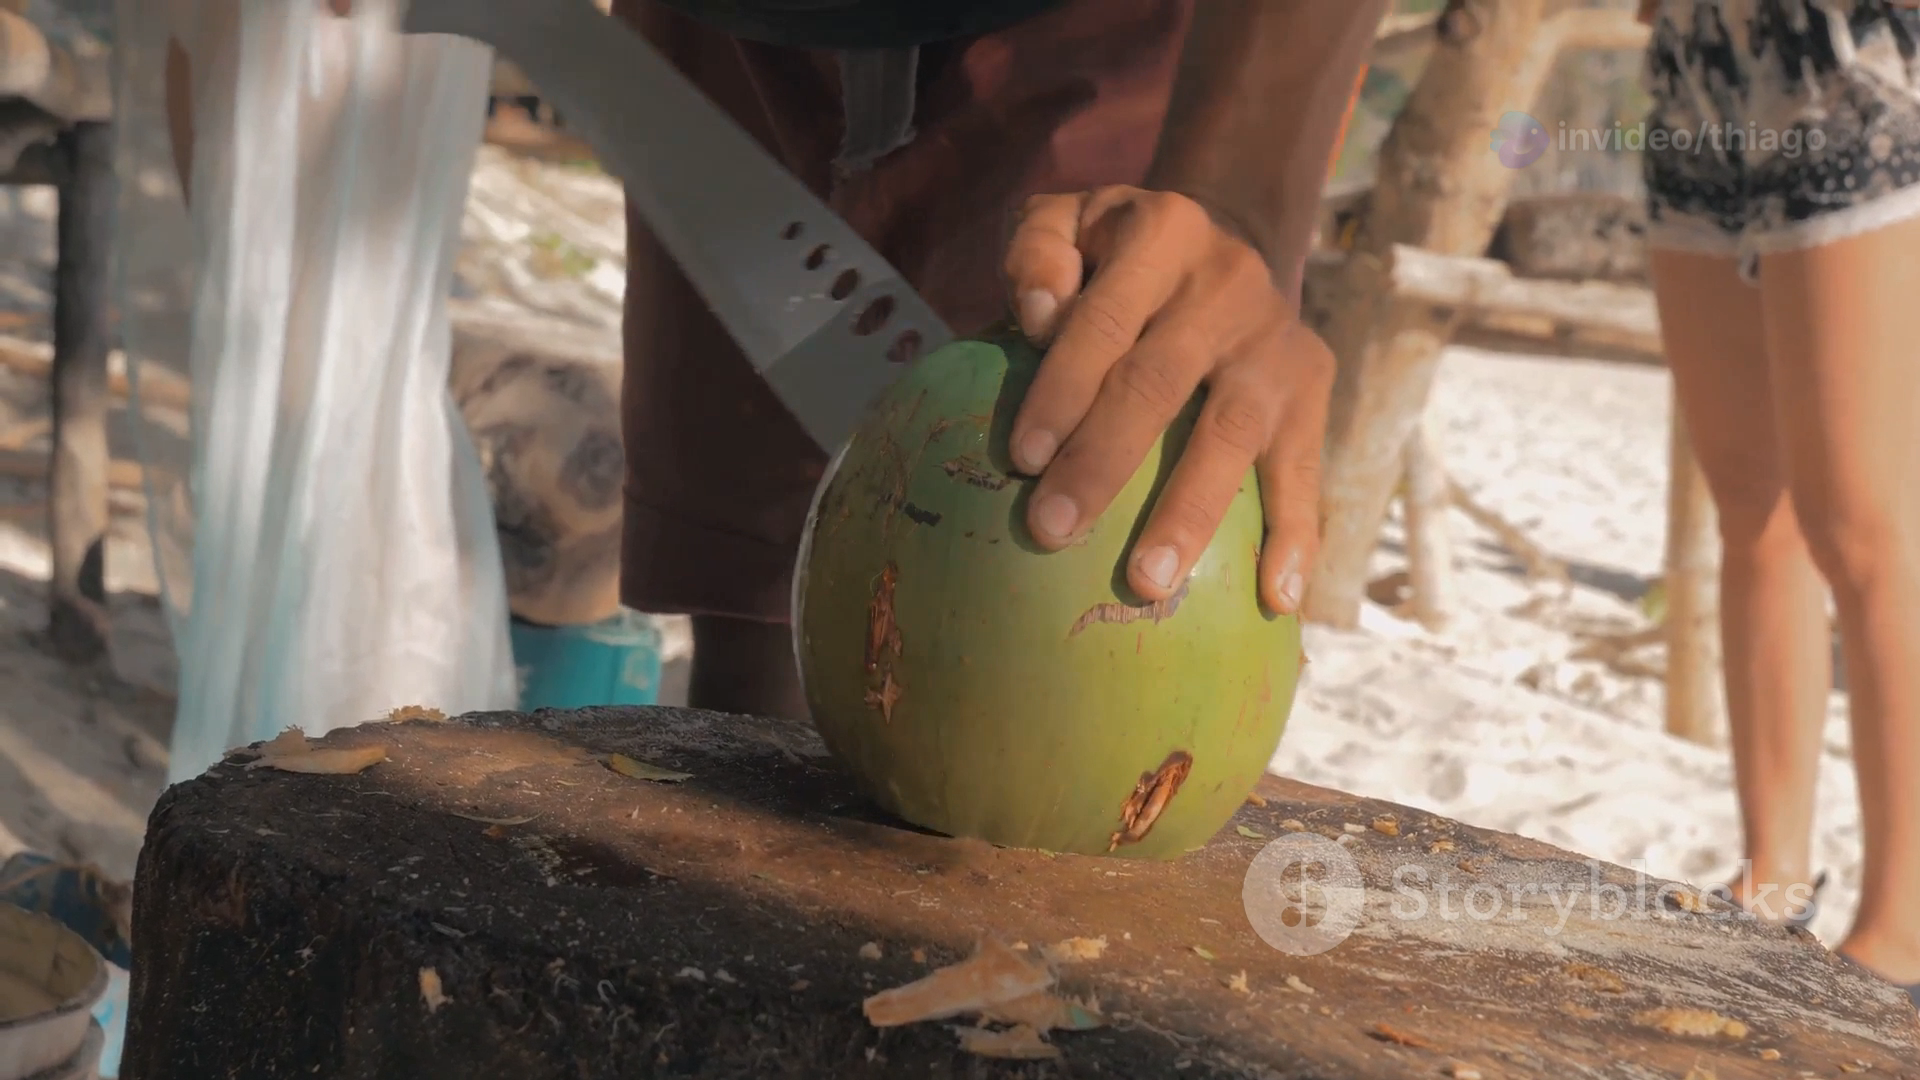cortante: (398, 0, 956, 462)
